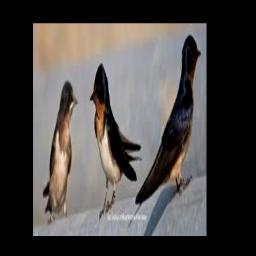Swallow: (135, 35, 201, 204), (89, 64, 142, 219), (43, 82, 77, 216)
